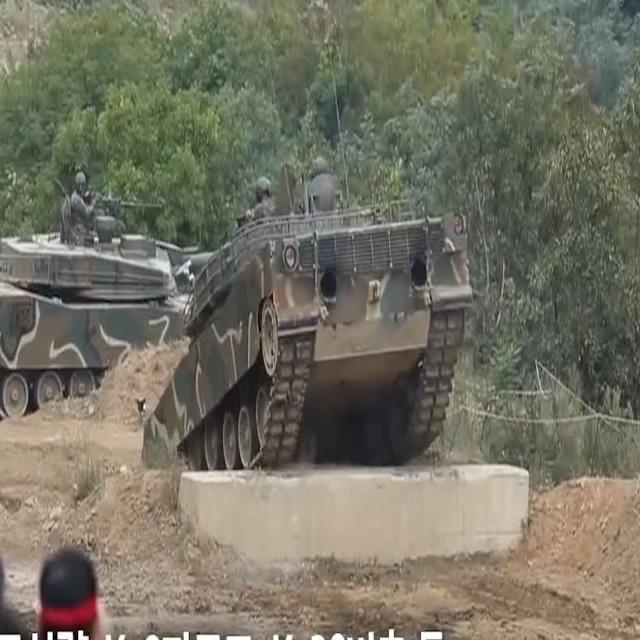korea tank: (137, 154, 473, 473)
